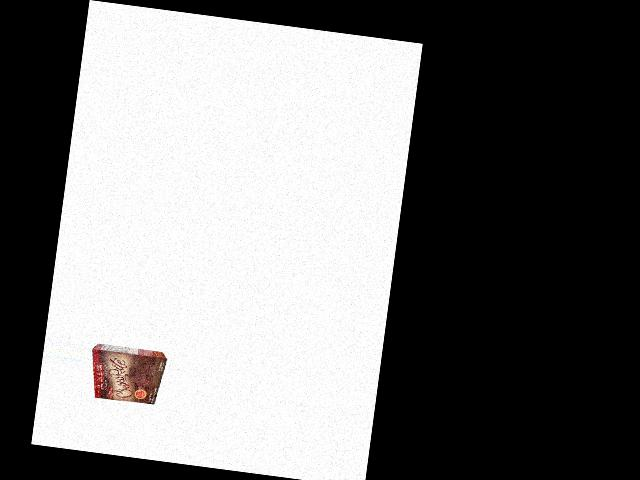chocolate: (88, 343, 168, 407)
